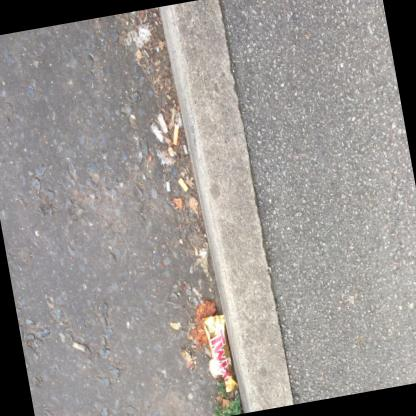Paper: (149, 121, 163, 141), (71, 340, 89, 353), (157, 112, 167, 132), (176, 177, 187, 192), (172, 122, 178, 144), (182, 144, 187, 153), (165, 180, 169, 190)
Plastic: (201, 314, 236, 391)
